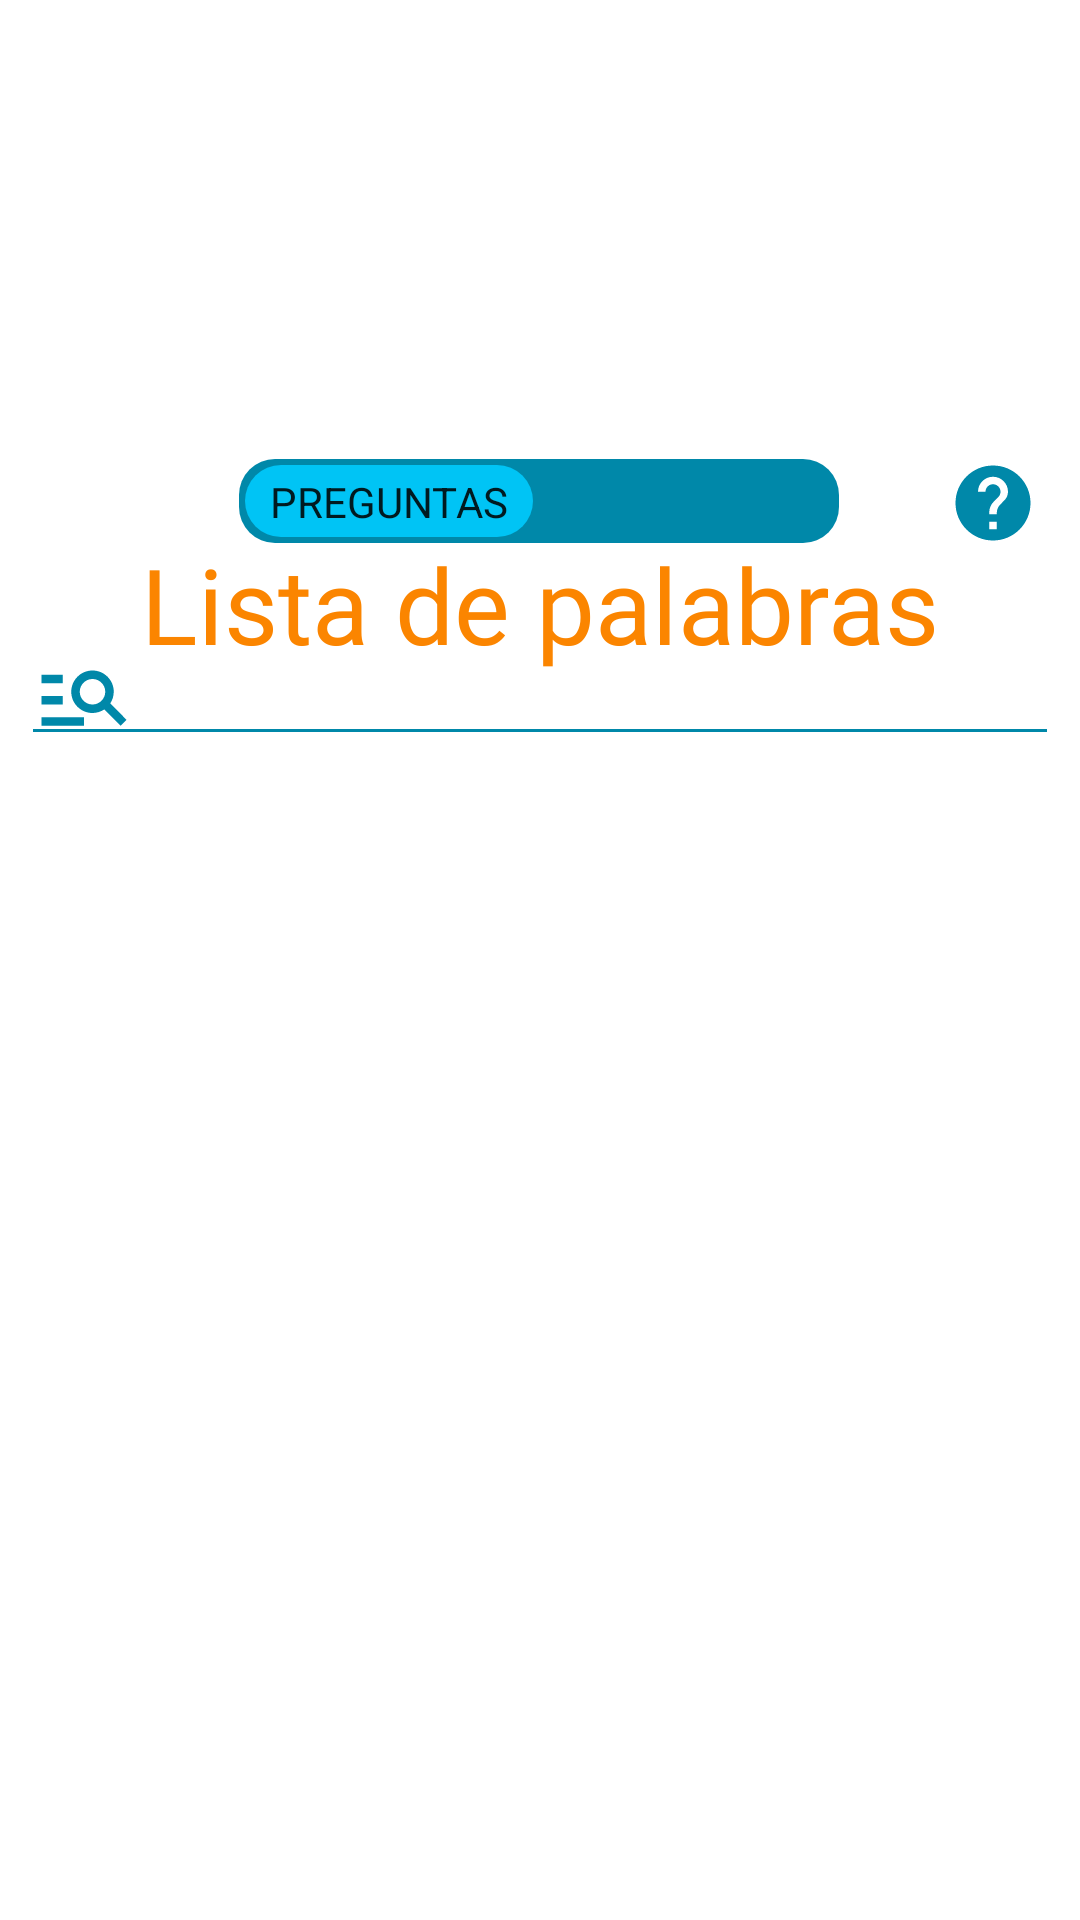

Point at icon controls on the screen. Image size 1080x1920, points as [x,y].
help: [993,503]
